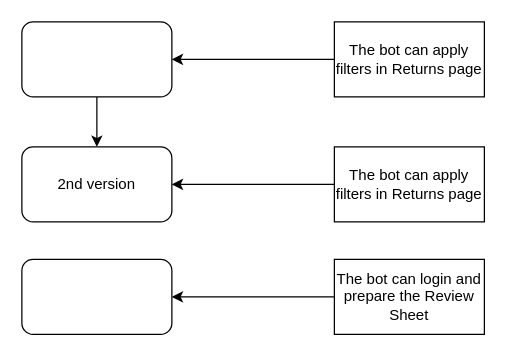
Image size: 506x356. Some labels were removed from this diagram. The shapes that lost their labels are listed below. From the top down, each one's centre as x and y in pixels, then its label:
At (x=96, y=59): "1st version".
At (x=96, y=296): "3hd version".
